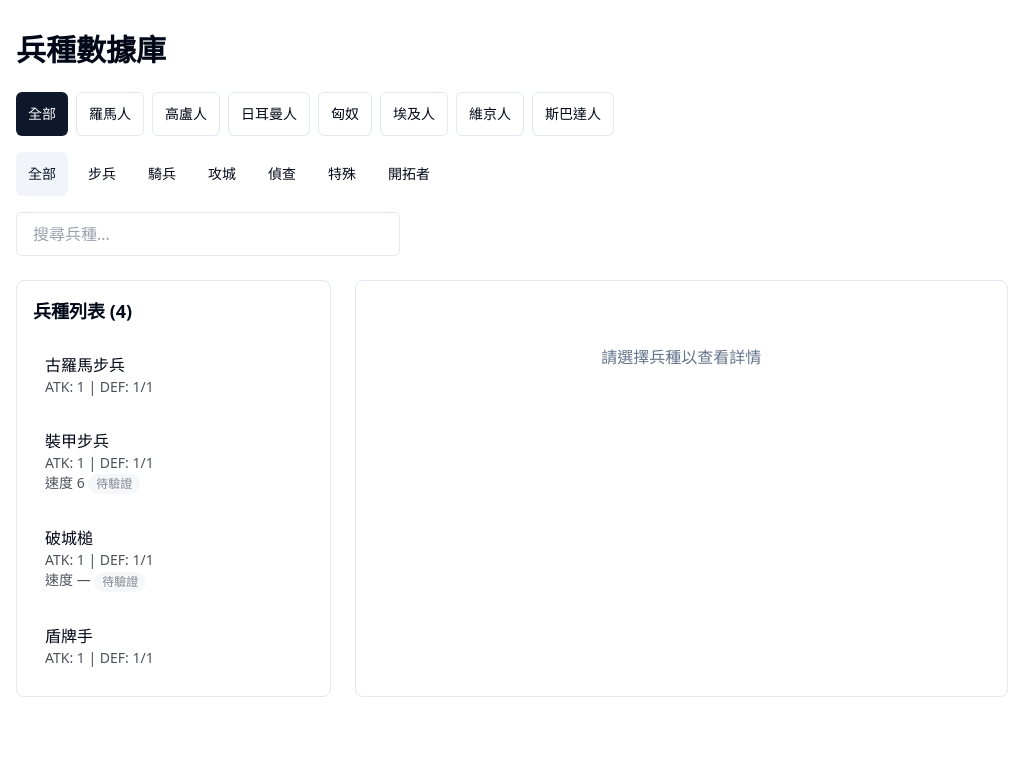
it: TroopsPage speed 待驗證 chips (P0-15) › detail, asia_x1 (Spartans, 2026-10-11): plain number, no chip, source 「ASIA x1 遊戲內說明實測」
Click the text "盾牌手": click(69, 636) [45, 624, 93, 646]
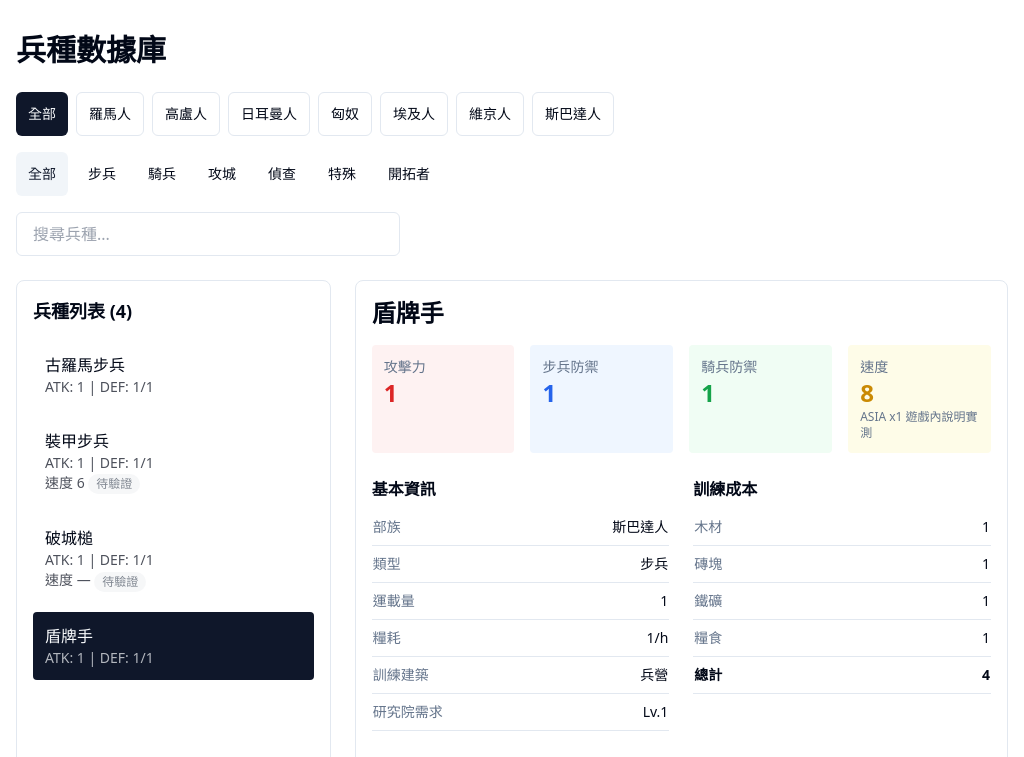
Check: the text with test id "troop-speed" reads "8", box [860, 376, 874, 409]
Check: the text with test id "troop-speed-source" reads "ASIA x1 遊戲內說明實測", box [860, 408, 978, 441]
